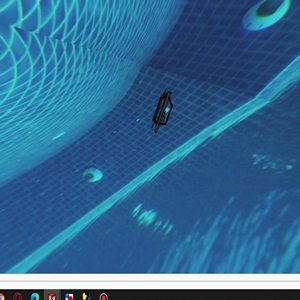submarine: (149, 90, 173, 133)
